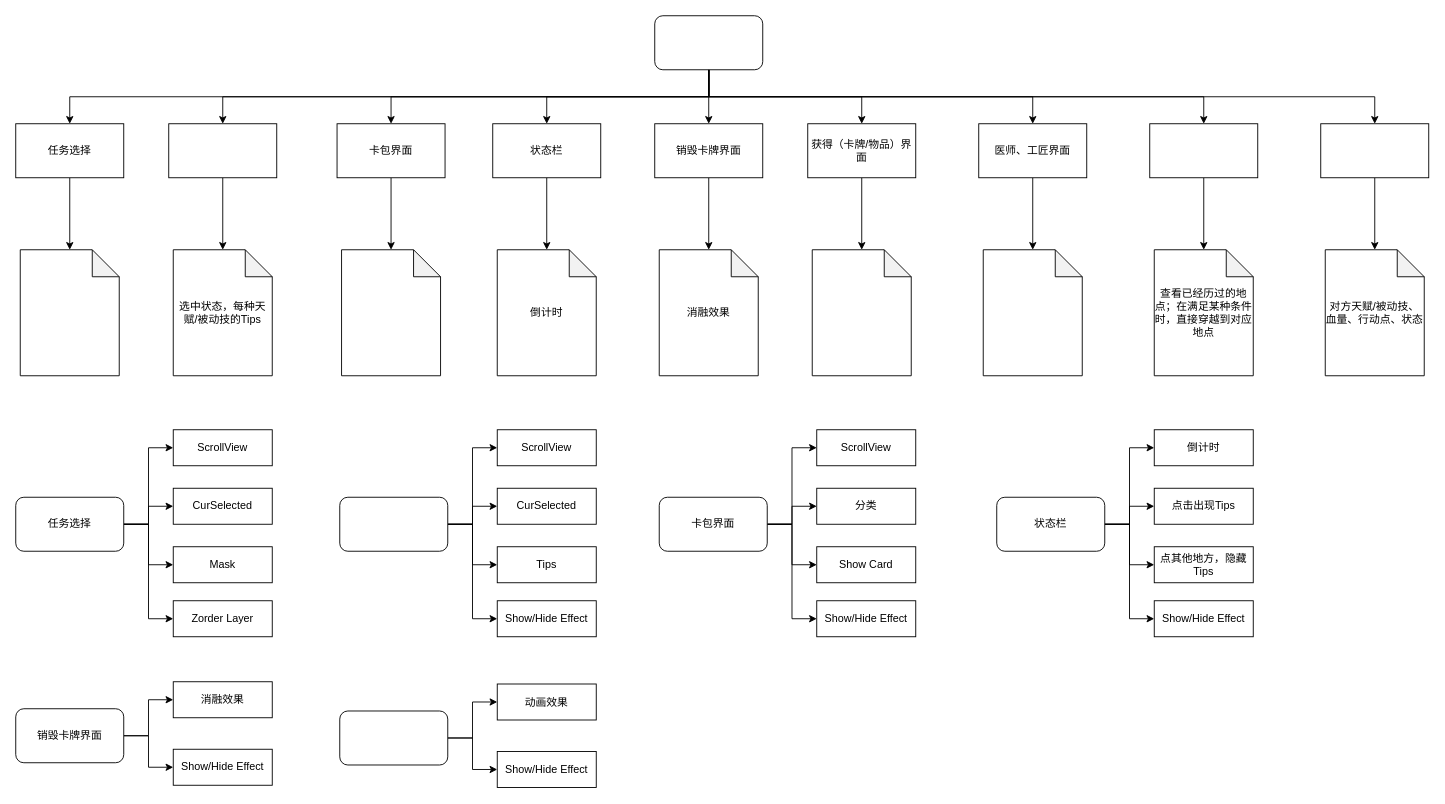
The diagram is 1445 pixels wide and 804 high, and some of its shapes have lost their labels. Here are the shapes that lost their labels. From the top down, the centre of each, then its label:
At point (708, 42): "LOGC-界面".
At point (222, 150): "天赋/被动技选择".
At point (1203, 150): "世界地图".
At point (1374, 150): "战斗场景".
At point (69, 312): "滚动效果".
At point (391, 312): "所有卡牌（战斗卡牌、消耗品卡牌、材料卡牌）".
At point (861, 312): "金色传说？".
At point (1032, 312): "医师允许回血、减轻污染； 工匠允许镶嵌卡牌、分解部分卡牌".
At point (393, 523): "天赋/被动".
At point (393, 737): "获得界面".
